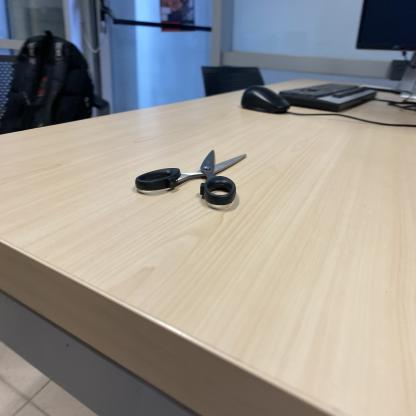scissors: (135, 146, 249, 209)
